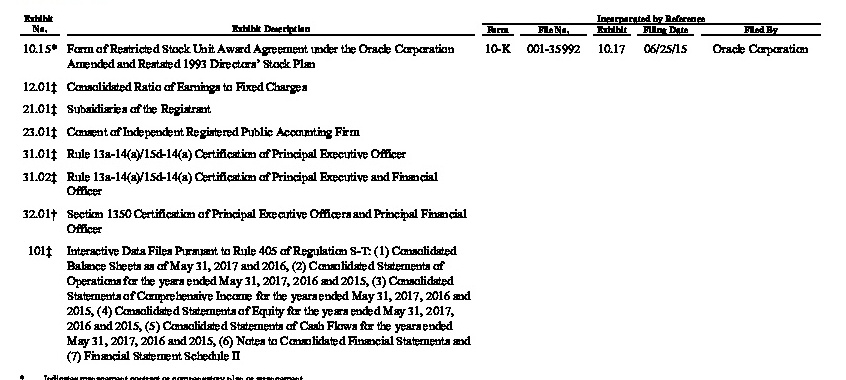table: (0, 0, 846, 380)
